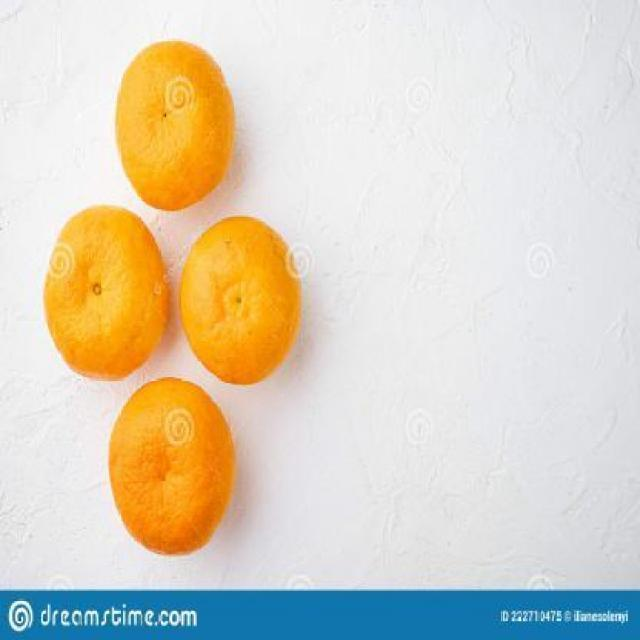Jeruk Sudah Matang: (38, 201, 175, 384), (108, 376, 234, 564), (116, 36, 238, 212), (178, 211, 302, 384)
